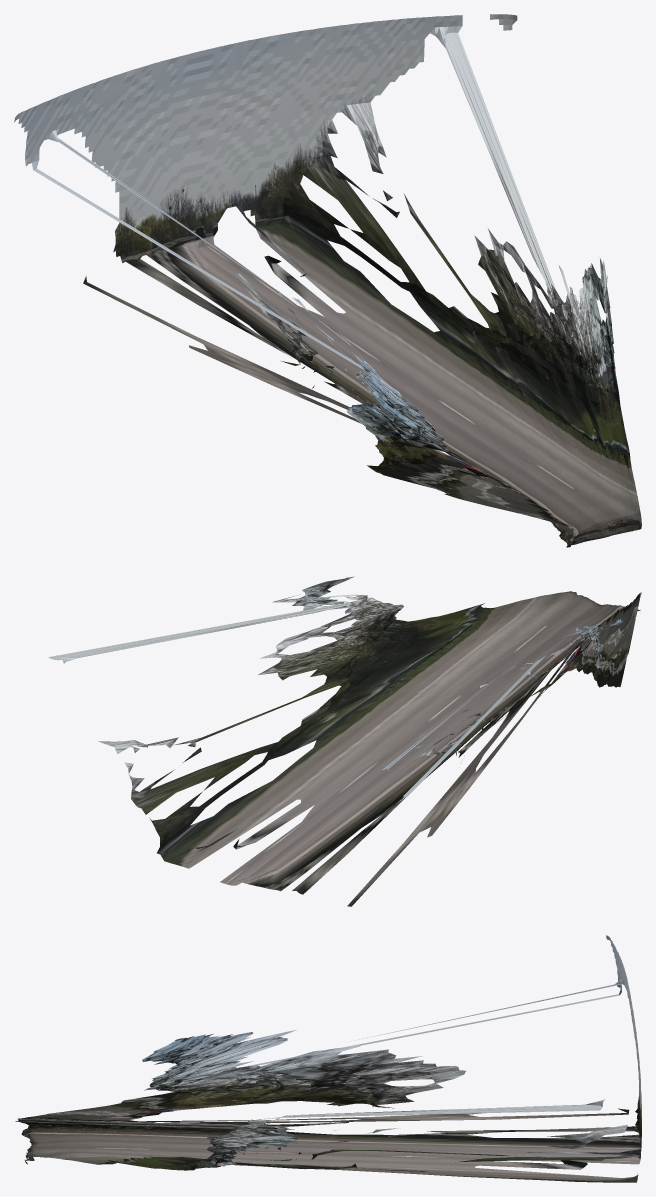
The picture shows the model from 3 angles, top to bottom: view 1: azimuth 30°, elevation 25°; view 2: azimuth 150°, elevation 25°; view 3: azimuth 270°, elevation 25°; orthographic projection. The views are drawn at different scales.
Visible parts, largest first — view 1: defaultobject; view 2: defaultobject; view 3: defaultobject.
Part boxes in pixels (bbox=[...]): defaultobject: bbox=[14, 14, 641, 547]; defaultobject: bbox=[48, 576, 641, 906]; defaultobject: bbox=[15, 935, 641, 1182].
Bounding box in the file's own units: 30.41 × 12.09 × 45.16.
1 material, 1 textured.
